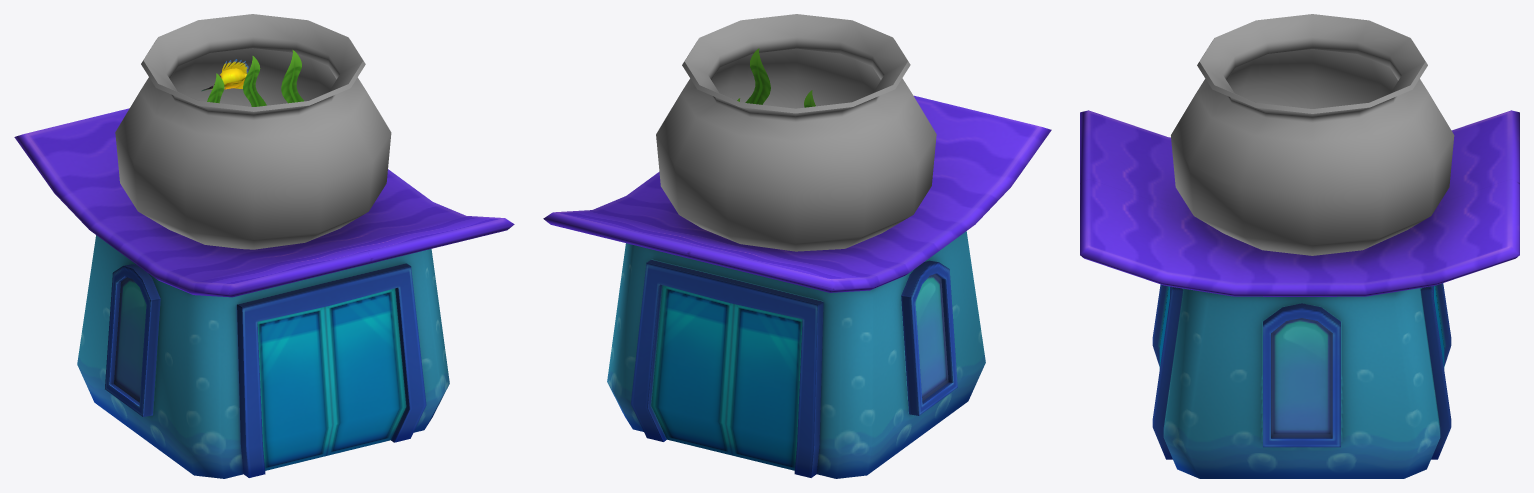
Rendered from NoAnim_FishShop.FBX.
3 views of the same model, side by side, from view 1: azimuth 30°, elevation 25°; view 2: azimuth 150°, elevation 25°; view 3: azimuth 270°, elevation 25° (orthographic). The views are drawn at different scales.
Parts seen in each view (by area): view 1: NoAnim_FishShop; view 2: NoAnim_FishShop; view 3: NoAnim_FishShop.
Boxes of the visible parts, x1,y1,x2,y2 form: NoAnim_FishShop: (14,14,514,478); NoAnim_FishShop: (543,14,1051,478); NoAnim_FishShop: (1080,14,1519,478).
Size of the model in its own units: 69.27 by 81.78 by 90.08.
